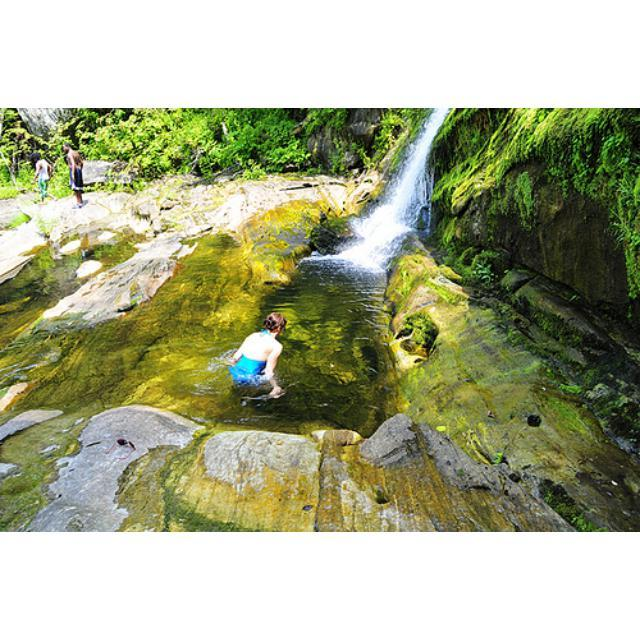human: (232, 309, 289, 403)
